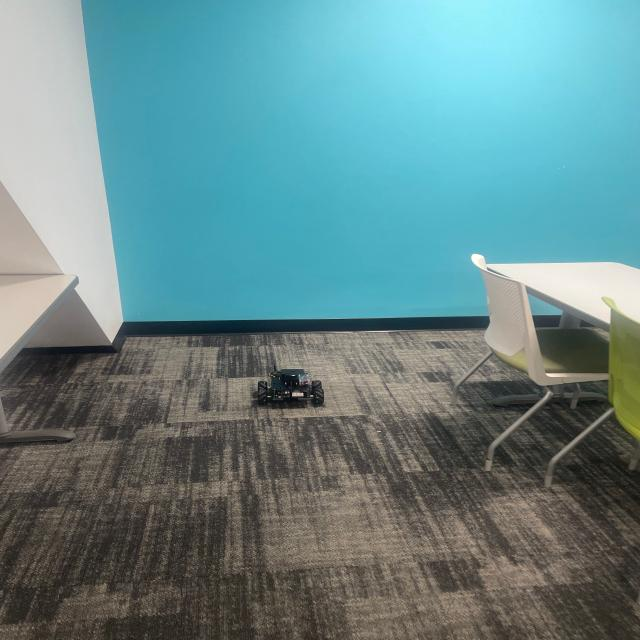ArduinoCar3: (252, 362, 327, 413)
